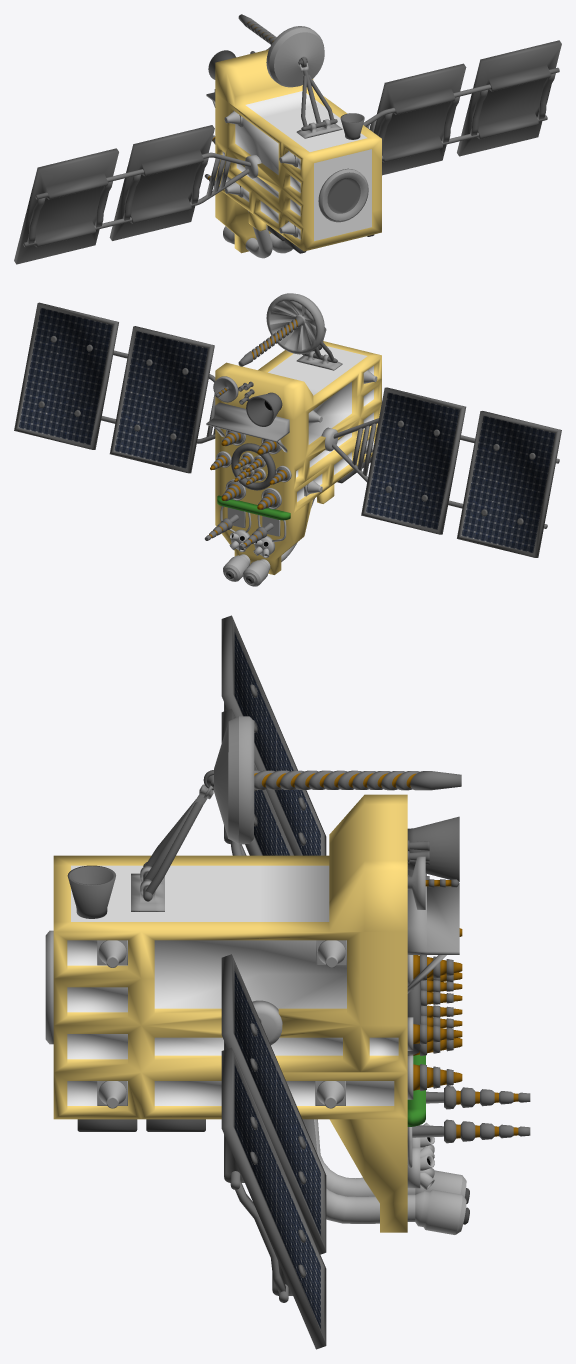
The model's file is glonass-k1_4_model.glb.
3 views of the same model, one above another, from view 1: azimuth 30°, elevation 25°; view 2: azimuth 150°, elevation 25°; view 3: azimuth 270°, elevation 25° (orthographic). The views are drawn at different scales.
Visible parts, largest first — view 1: Glonass K1, Plane.022, Plane.019, Plane.013, Plane.004, Cylinder.007, Cylinder.004, Circle.013, Cylinder.001, Cylinder.003, Plane.018, Circle.007 (+2 smaller); view 2: Glonass K1, Plane.004, Plane.013, Plane.019, Plane.022, Cylinder.004, Cube.001, Cylinder.007, Circle.001, Circle.009, Cube.002, Plane.018 (+6 smaller); view 3: Glonass K1, Plane.019, Plane.004, Cylinder.004, Plane.022, Plane.012, Cube.001, Circle.001, Plane.013, Cylinder.001, Circle.007, Plane.018 (+10 smaller).
Part boxes in pixels (box(x1,y1,x2,y2)): Glonass K1: box(215, 49, 381, 253); Plane.022: box(14, 148, 118, 264); Plane.019: box(457, 40, 561, 156); Plane.013: box(109, 125, 214, 240); Plane.004: box(373, 63, 466, 175); Cylinder.007: box(23, 152, 261, 247); Cylinder.004: box(238, 14, 324, 87); Circle.013: box(318, 168, 368, 222); Cylinder.001: box(363, 67, 559, 159); Cylinder.003: box(301, 70, 337, 130); Plane.018: box(223, 211, 272, 258); Circle.007: box(340, 113, 364, 139); Glonass K1: box(215, 341, 381, 574); Plane.004: box(109, 326, 214, 473); Plane.013: box(361, 387, 466, 534); Plane.019: box(14, 302, 118, 449); Plane.022: box(457, 411, 561, 557); Cylinder.004: box(238, 293, 324, 366); Cube.001: box(206, 402, 289, 452); Cylinder.007: box(321, 418, 559, 528); Circle.001: box(246, 392, 282, 426); Circle.009: box(231, 443, 275, 490); Cube.002: box(217, 495, 290, 520); Plane.018: box(243, 498, 314, 586); Glonass K1: box(53, 794, 407, 1232); Plane.019: box(221, 1047, 326, 1349); Plane.004: box(221, 954, 326, 1254); Cylinder.004: box(203, 716, 461, 843); Plane.022: box(221, 615, 326, 855); Plane.012: box(302, 1119, 469, 1234); Cube.001: box(407, 870, 459, 993); Circle.001: box(407, 816, 459, 882); Plane.013: box(221, 709, 294, 855); Cylinder.001: box(230, 1000, 288, 1302); Circle.007: box(67, 865, 115, 918); Plane.018: box(314, 1119, 469, 1203).
Size of the model in its own units: 17.49 by 8.03 by 7.03.
Materials: 11 (1 with a texture image).
